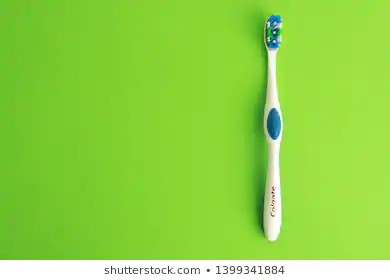toothbrush: (255, 14, 290, 248)
